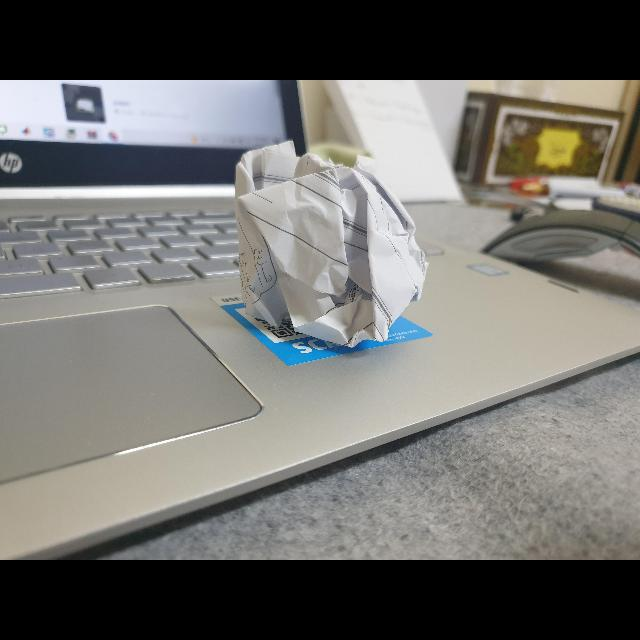scrap_paper: (222, 128, 438, 356)
